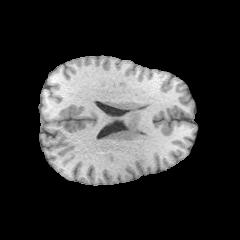glioma: (108, 103, 154, 147)
